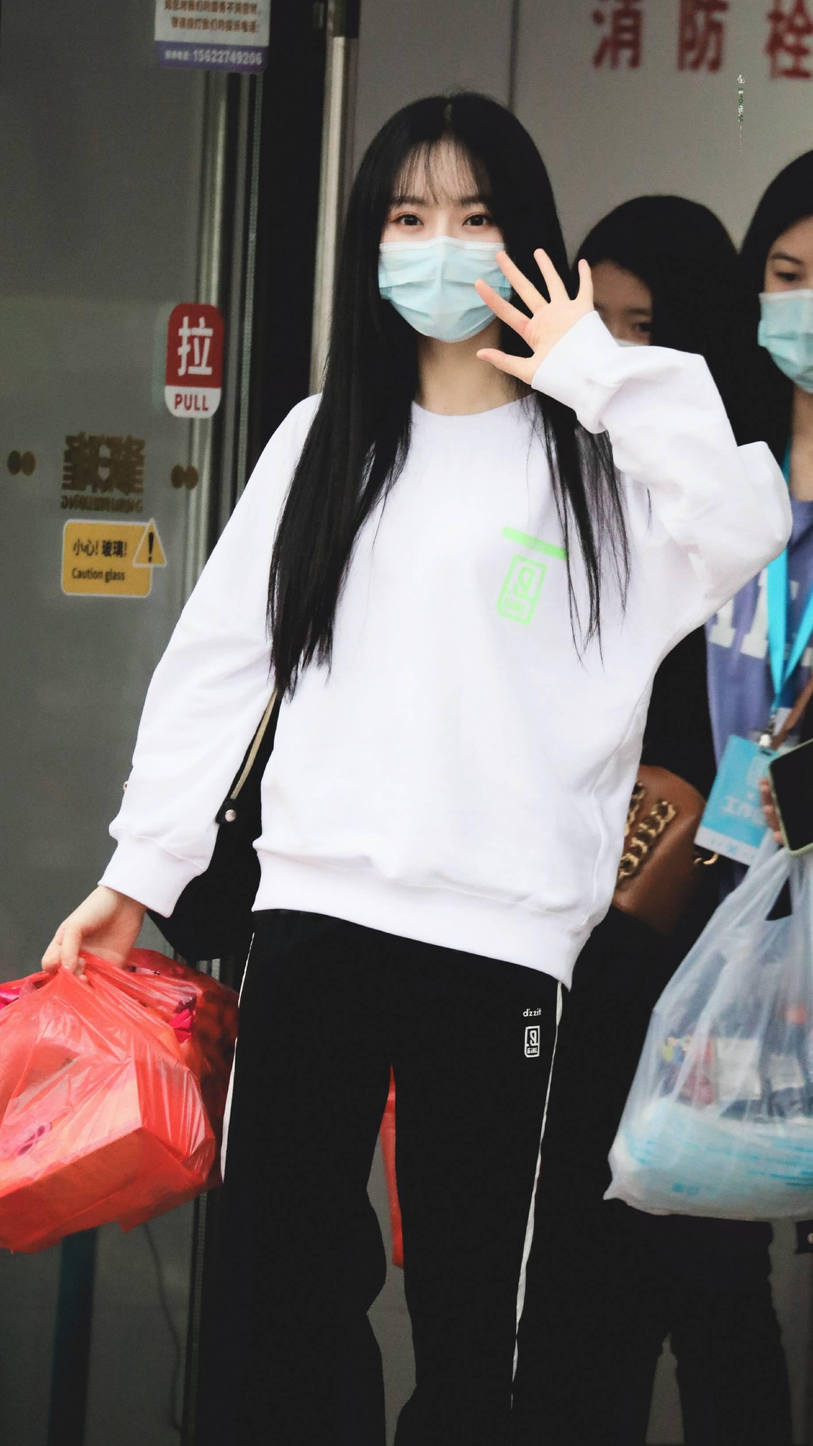OK: (376, 178, 512, 341), (755, 245, 813, 399)
